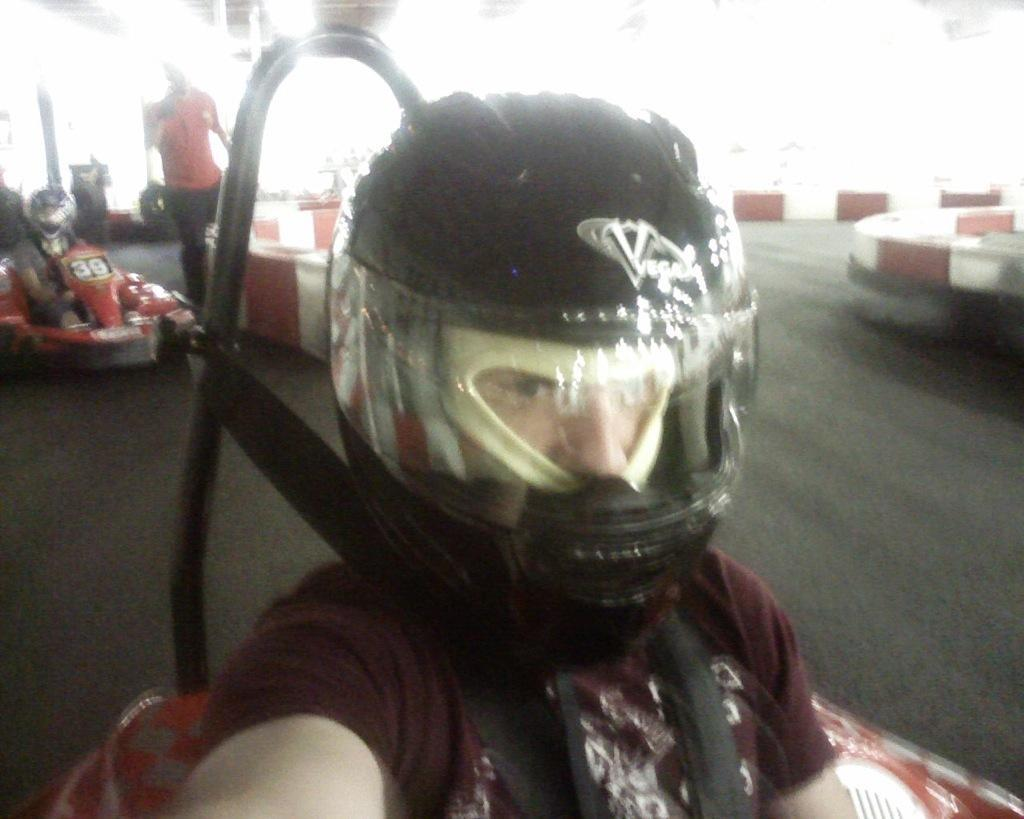helmet: (320, 87, 766, 613), (25, 182, 78, 243)
